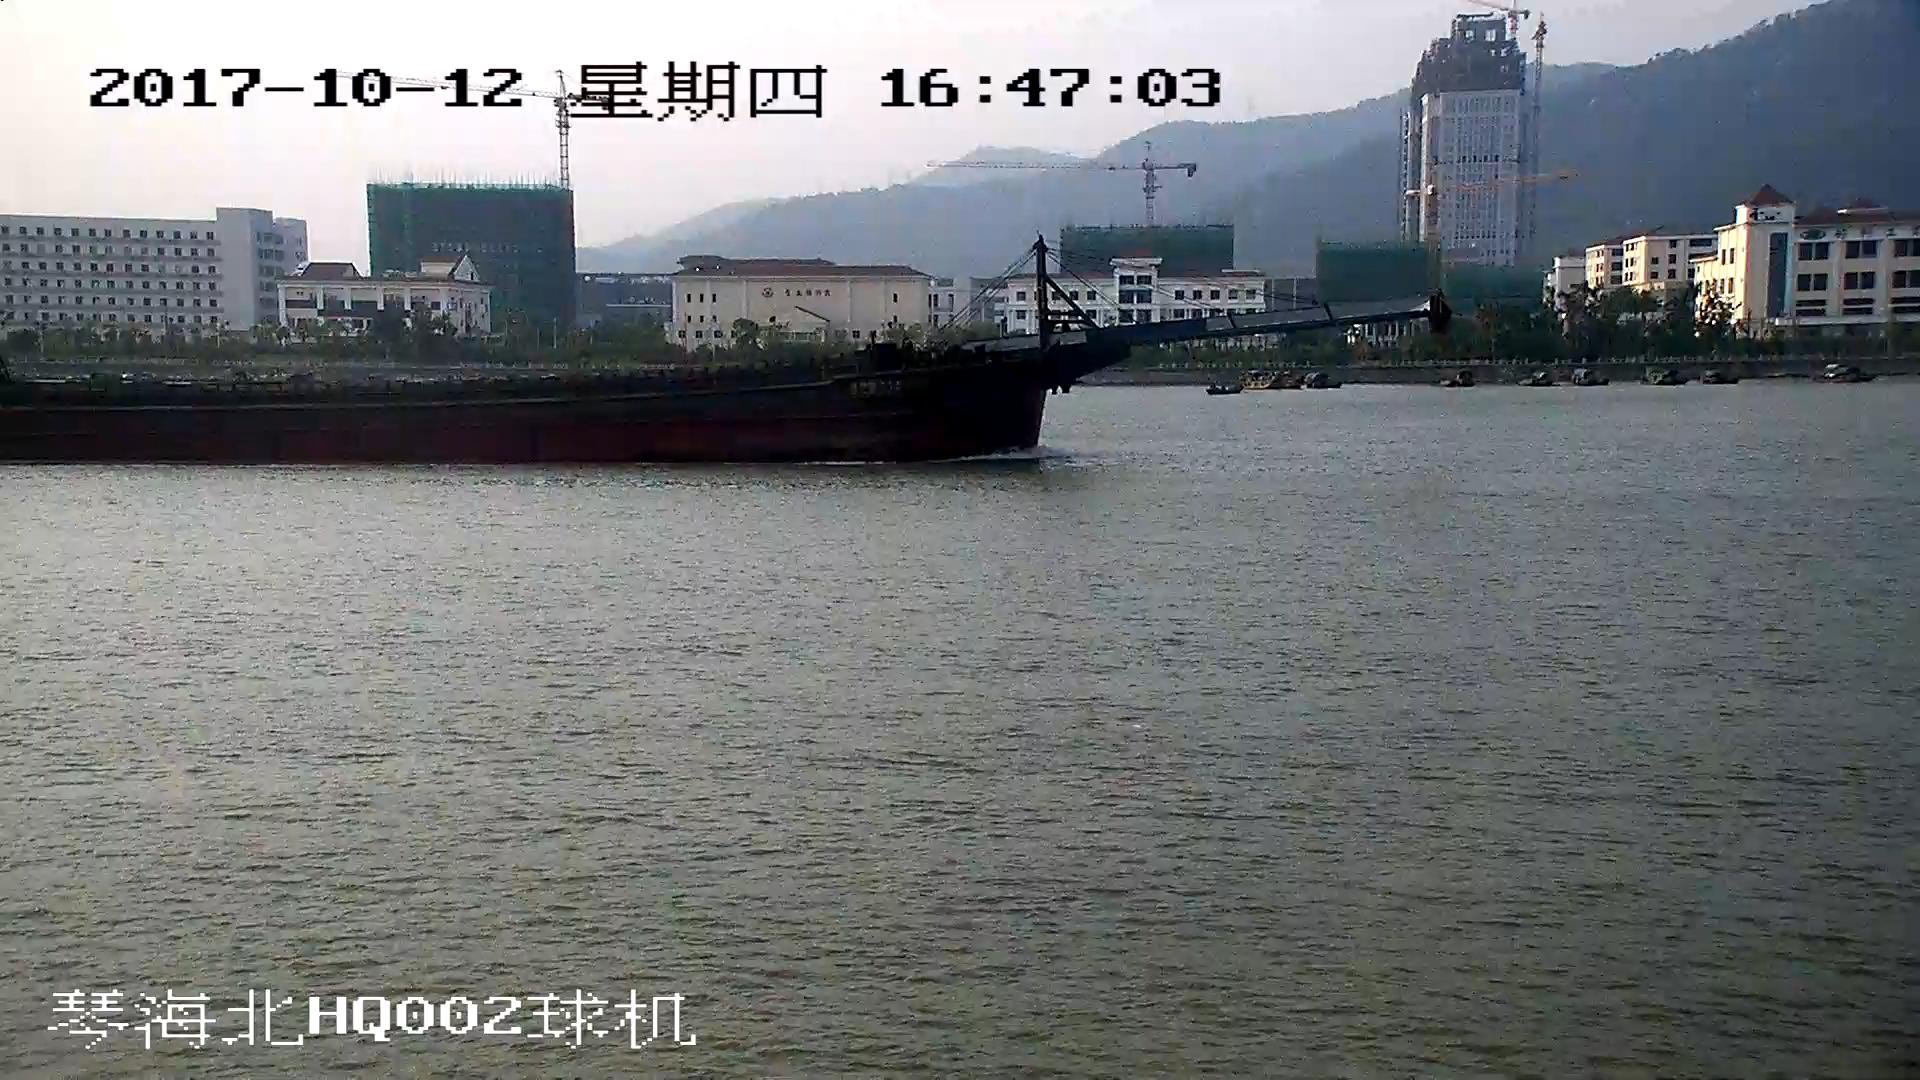bulk cargo carrier: (1, 230, 1440, 466)
